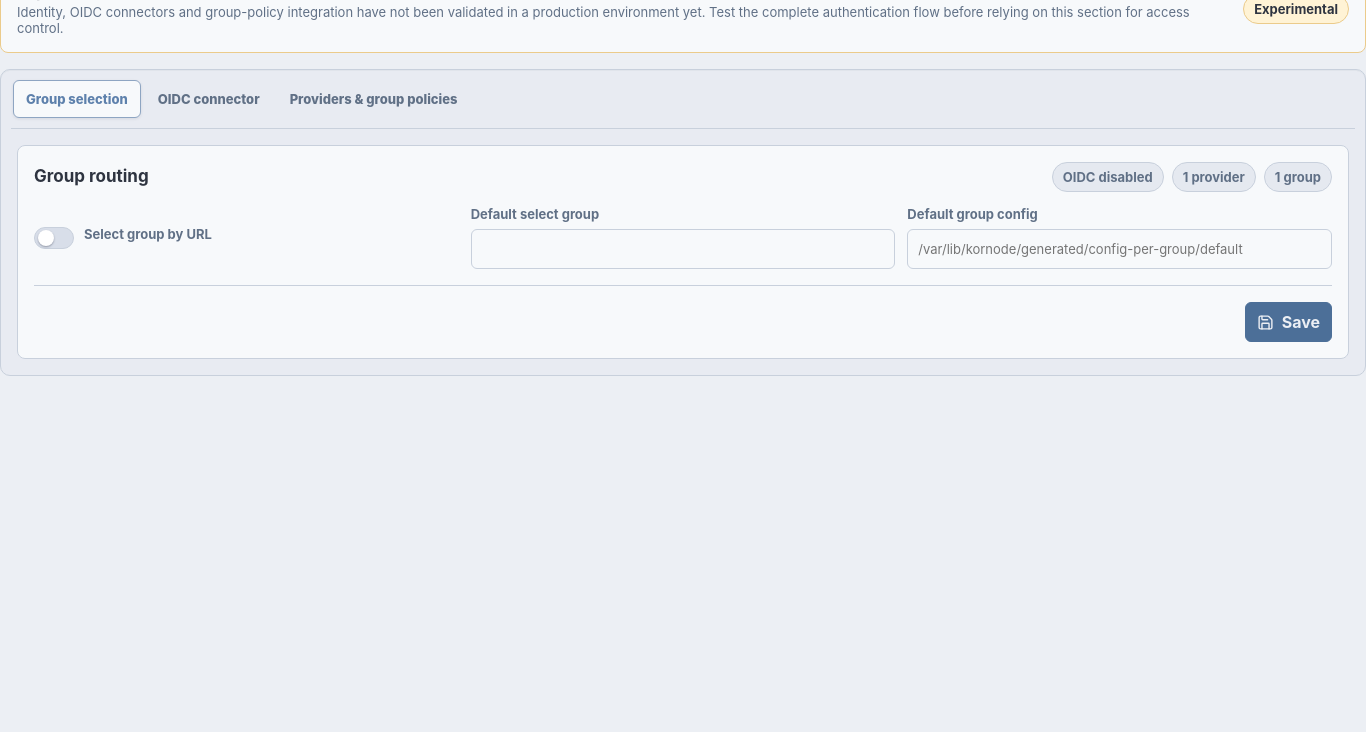
makes OIDC secret removal explicit and resets removal when editing a provider
Step 1. Click the tab "Providers & group policies" → {"x": 374, "y": 99}, box left=277, top=80, right=470, bottom=118
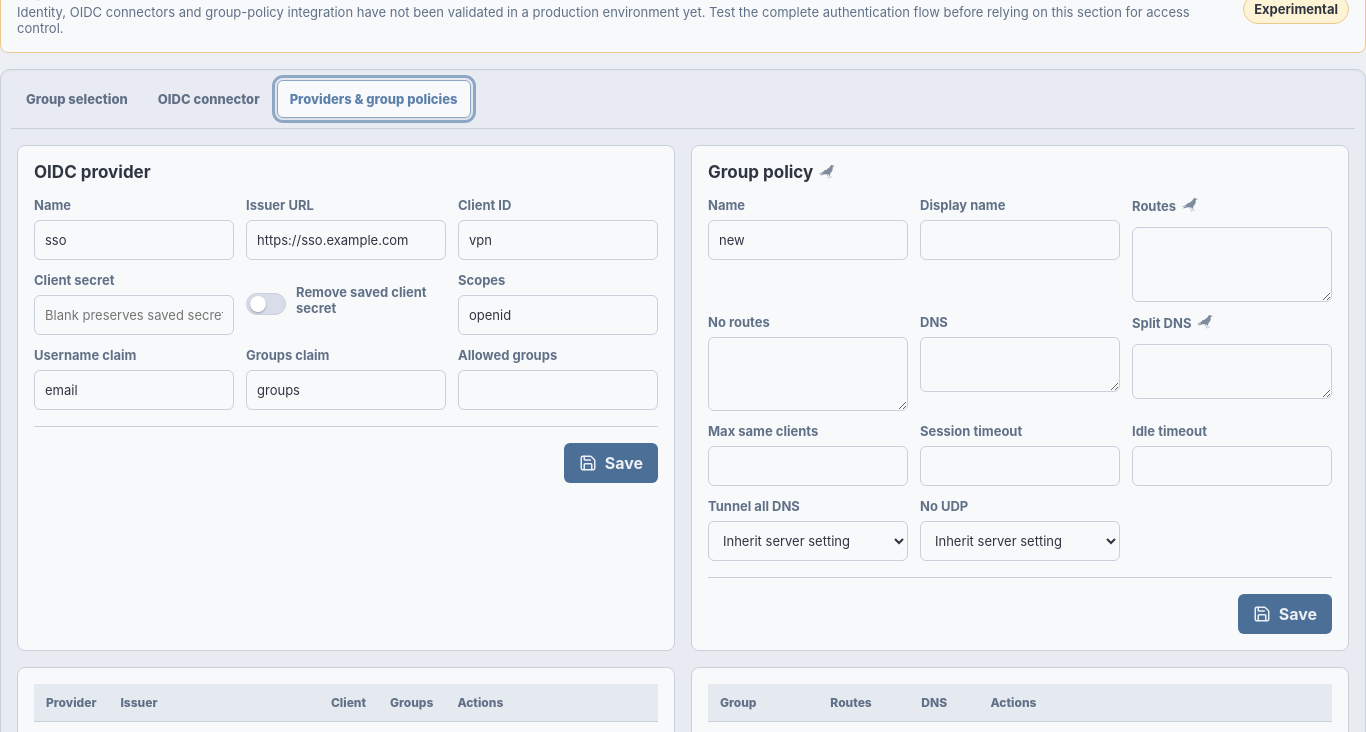
Step 2. Click the checkbox labelled "Remove saved client secret" → {"x": 266, "y": 304}, box left=246, top=293, right=286, bottom=315
(page scrolled)
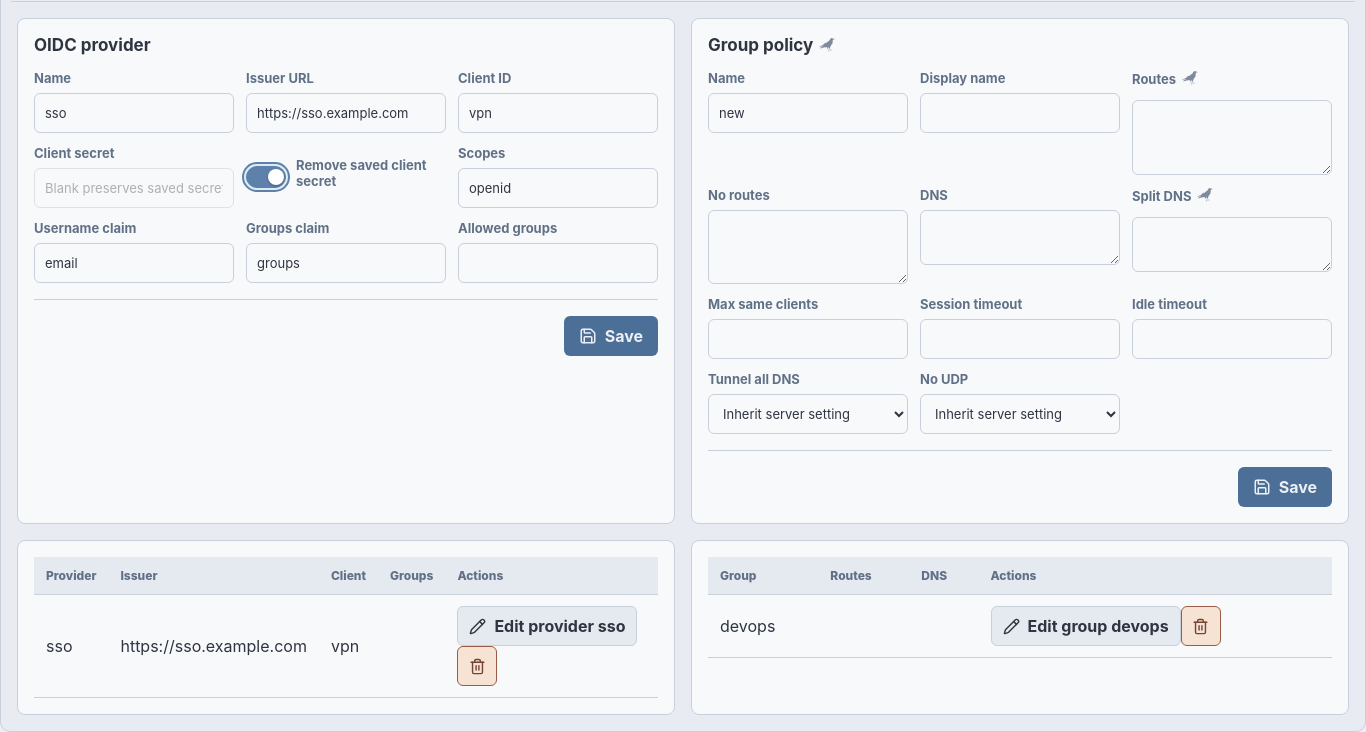
Now the password field labelled "Client secret" is disabled, box left=34, top=168, right=234, bottom=208
Step 3. Click the button "Edit provider sso" → {"x": 547, "y": 626}, box left=457, top=606, right=638, bottom=646
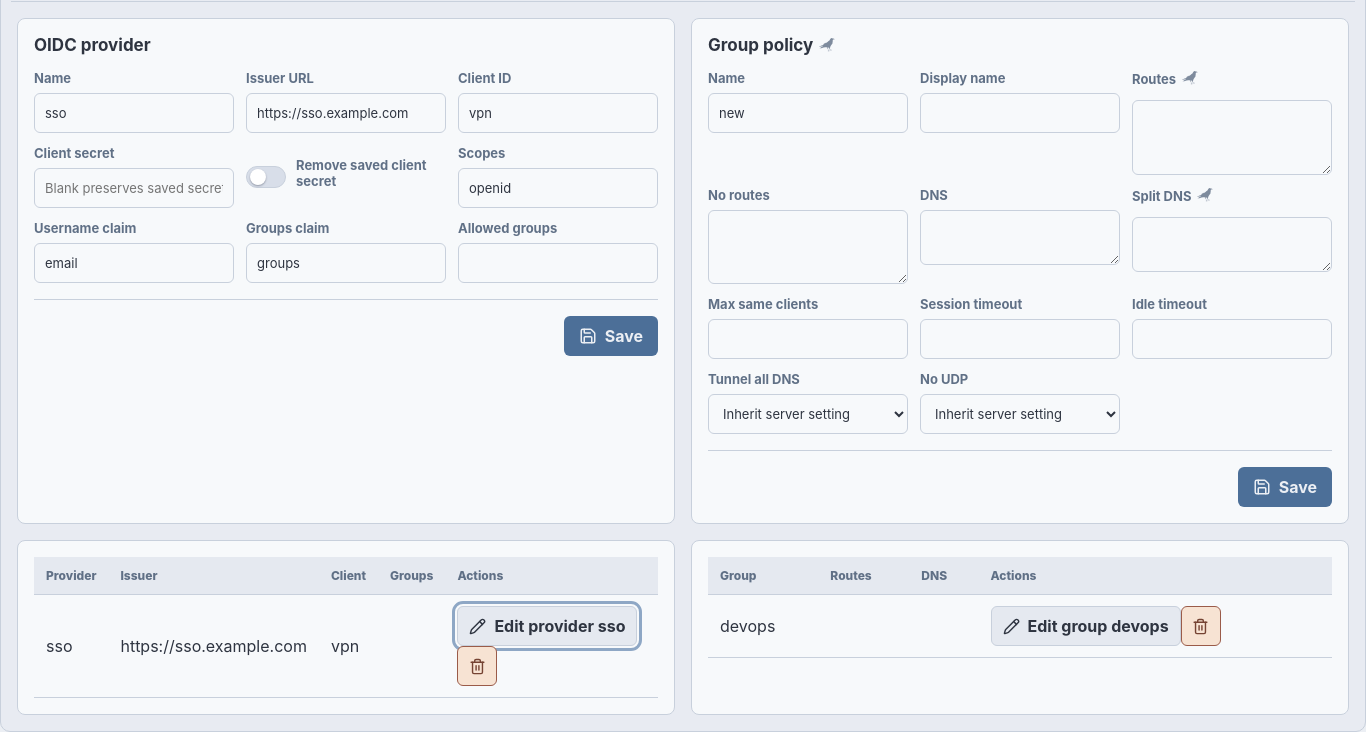
Now the password field labelled "Client secret" is empty, box left=34, top=168, right=234, bottom=208
Now the password field labelled "Client secret" is enabled, box left=34, top=168, right=234, bottom=208
